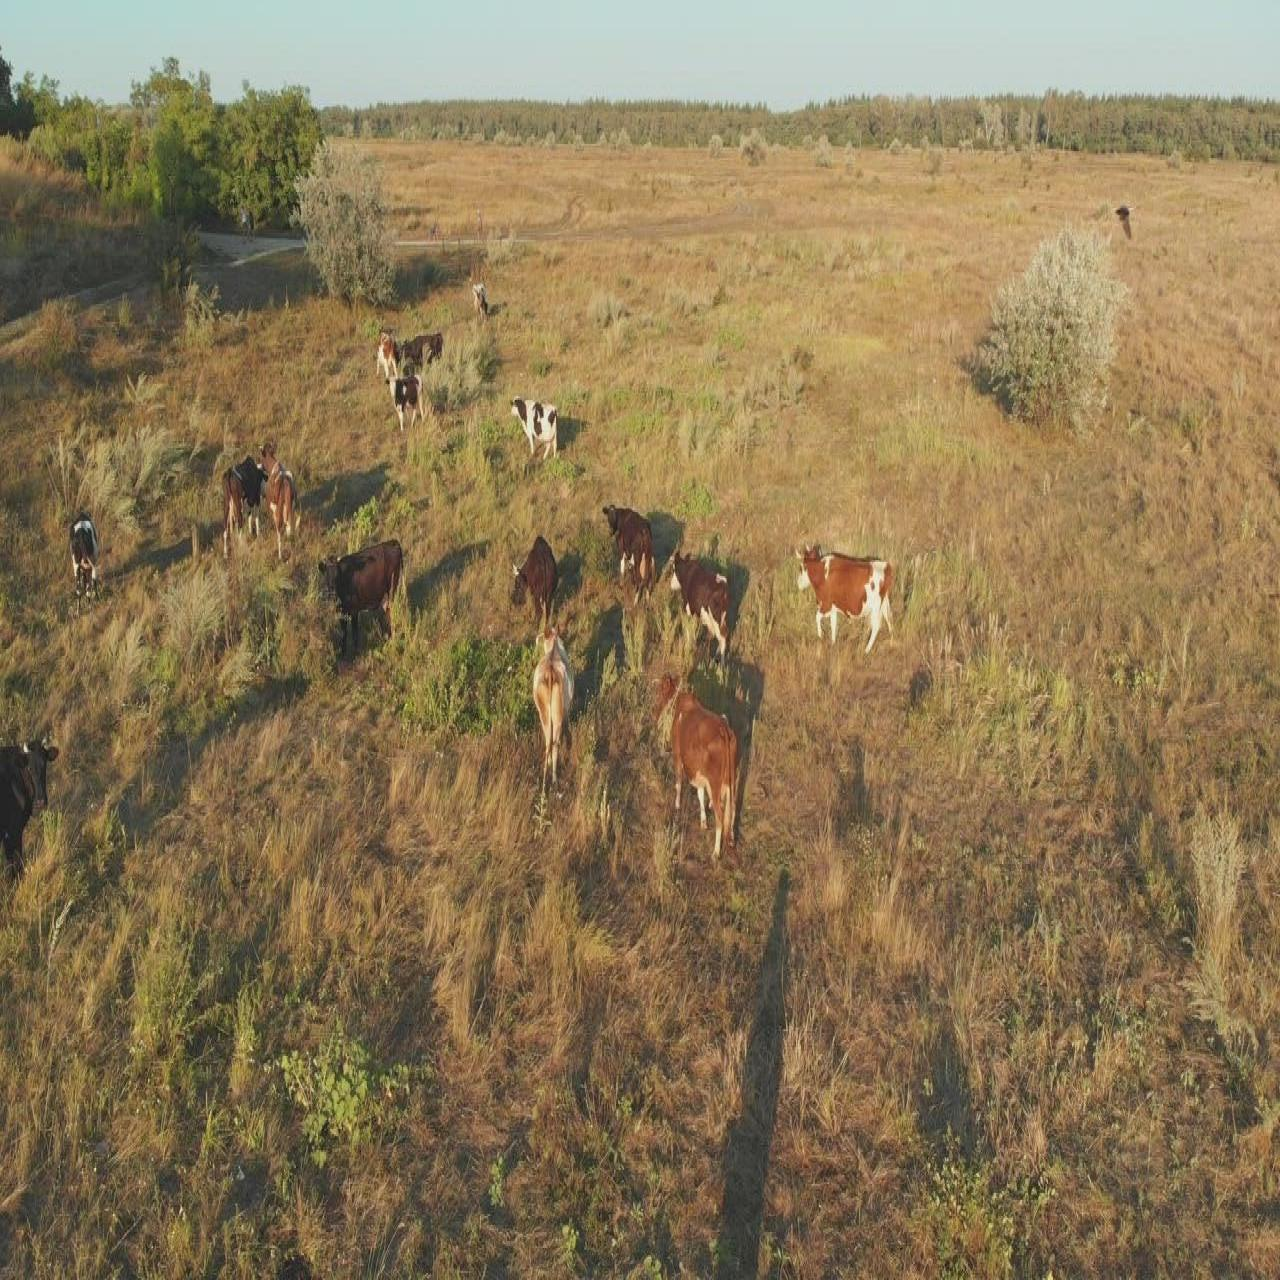cow: (654, 681, 757, 876), (794, 529, 913, 669), (668, 544, 750, 686), (0, 729, 60, 884), (328, 537, 408, 641), (530, 629, 580, 790), (257, 434, 309, 567), (515, 530, 565, 629), (602, 501, 658, 585), (219, 455, 267, 550), (513, 394, 566, 465), (67, 518, 100, 594), (367, 320, 399, 384), (393, 374, 425, 433)
